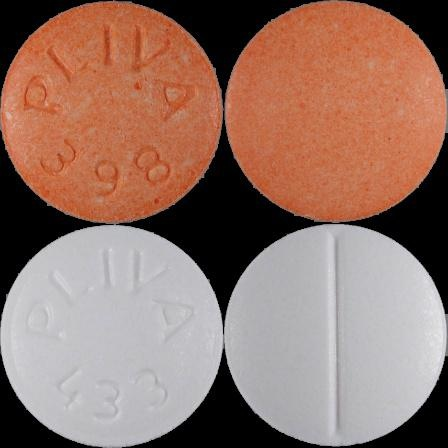50111-398: (0, 0, 224, 224)
